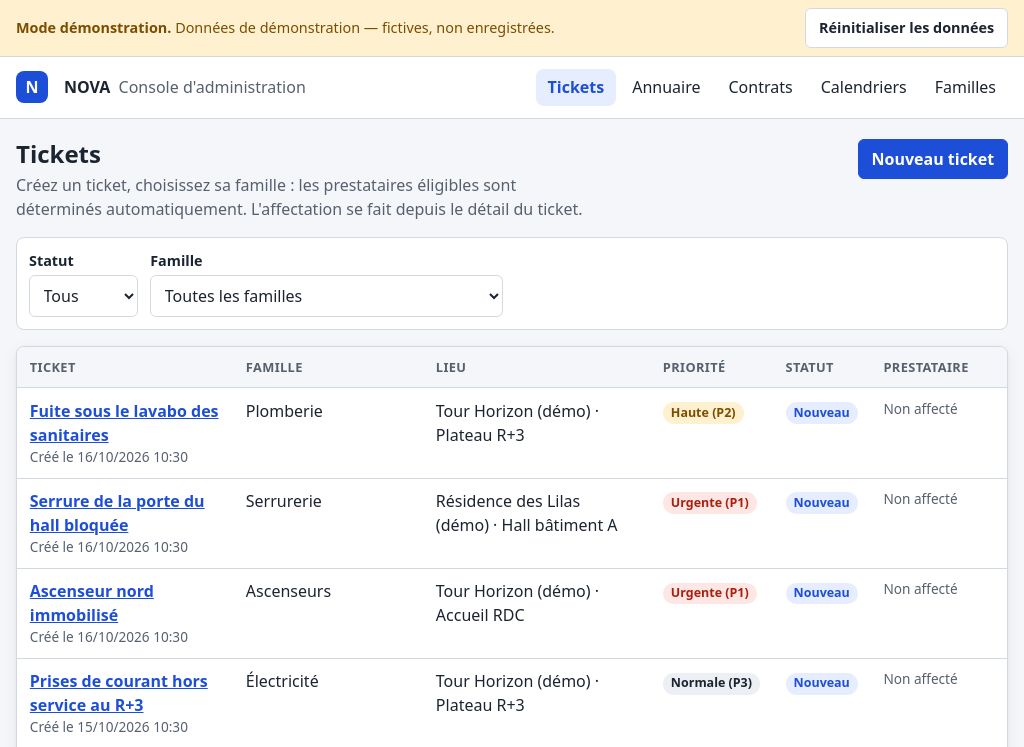
it: liste et création de tickets › famille sans prestataire éligible : l'aperçu prévient, le ticket est créé mais le détail oriente vers l'annuaire
The image size is (1024, 747).
Click the button "Nouveau ticket". click: {"x": 933, "y": 159}
box: [858,139,1008,179]
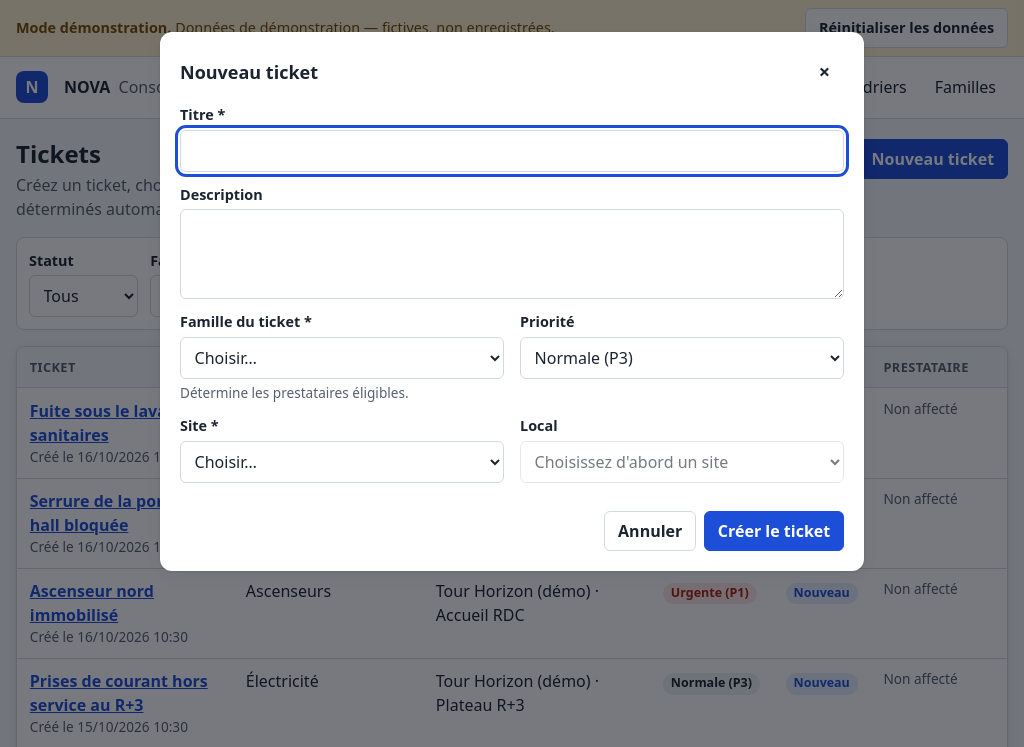
Type "Peinture écaillée" into the field labelled "Titre *". click: {"x": 512, "y": 151}
box: [180,130,844,172]
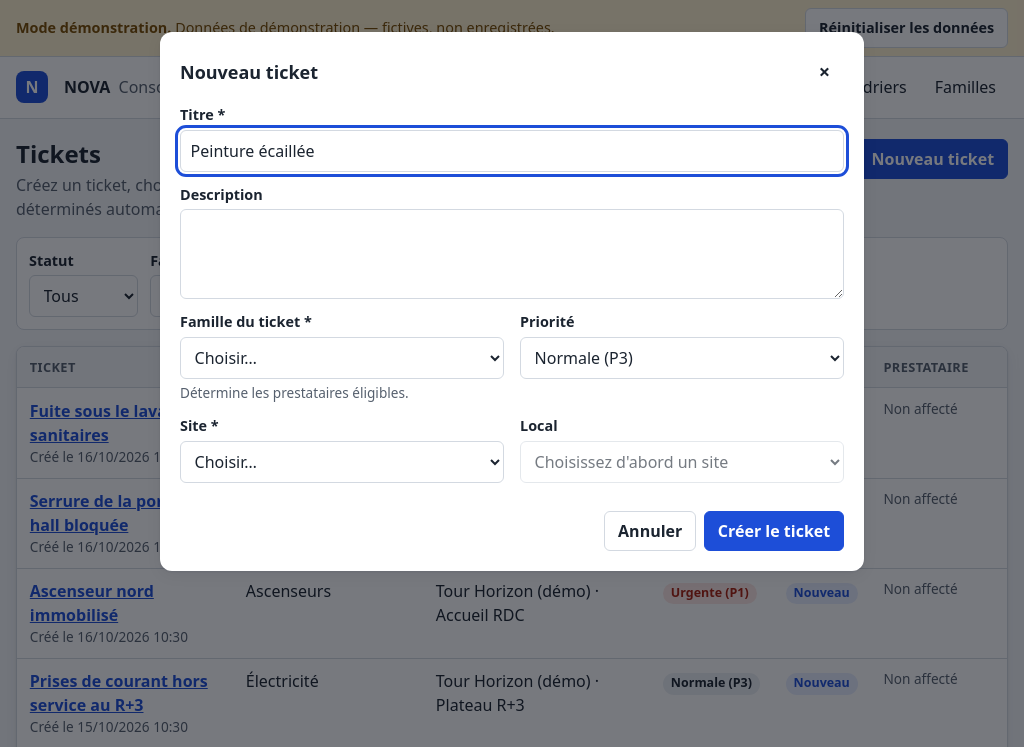
Select "Peinture et revêtements" in the dropdown labelled "Famille du ticket *". click: {"x": 342, "y": 358}
box: [180,337,504,379]
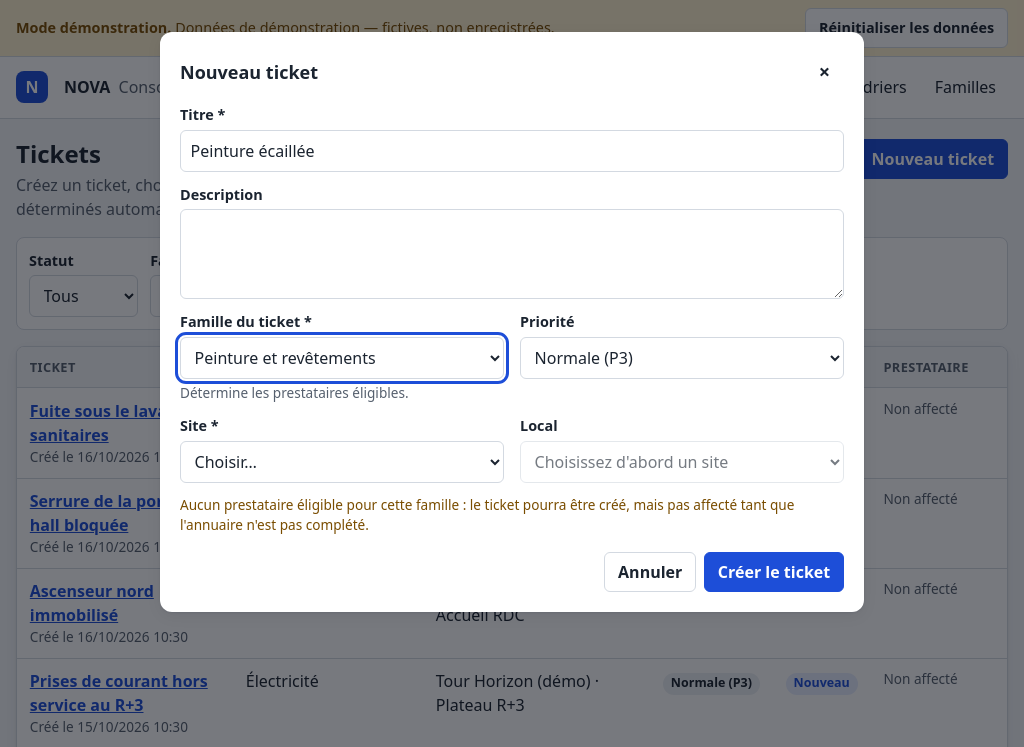
Now the text "Aucun prestataire éligible pour cette famille" is shown, box [180,495,459,514]
Select "Tour Horizon (démo)" in the dropdown labelled "Site *". click: {"x": 342, "y": 462}
box: [180,441,504,483]
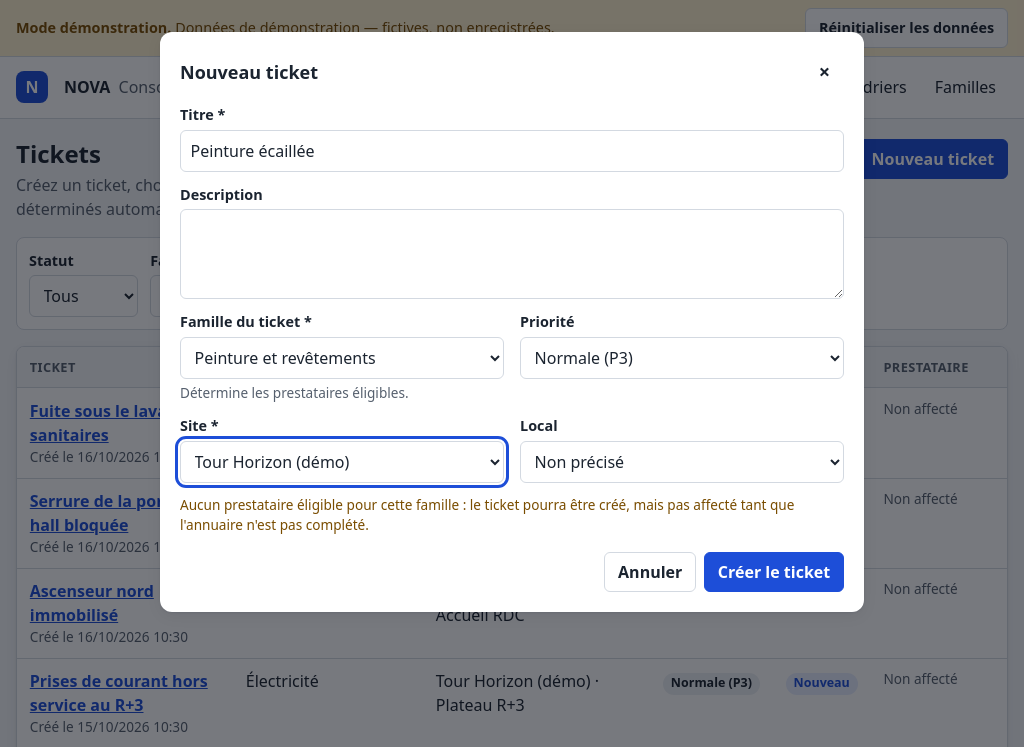
Click the button "Créer le ticket". click: {"x": 774, "y": 572}
box: [704,552,844,592]
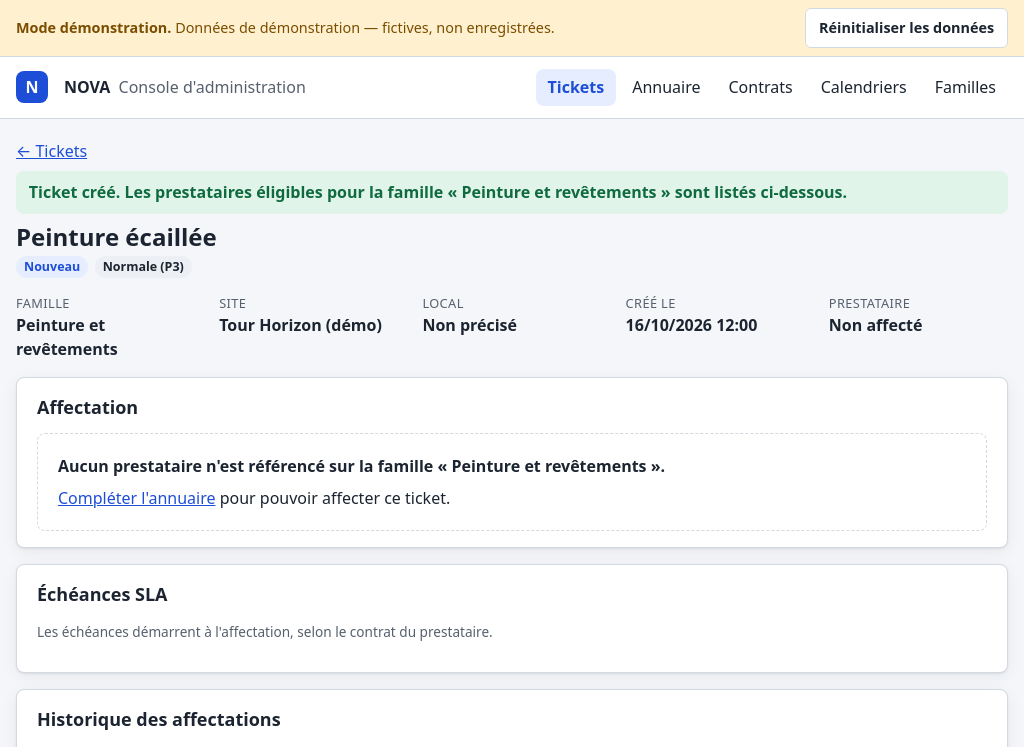
Now the text "Aucun prestataire n'est référencé sur la famille « Peinture et revêtements »" is shown, box [58,455,665,477]
